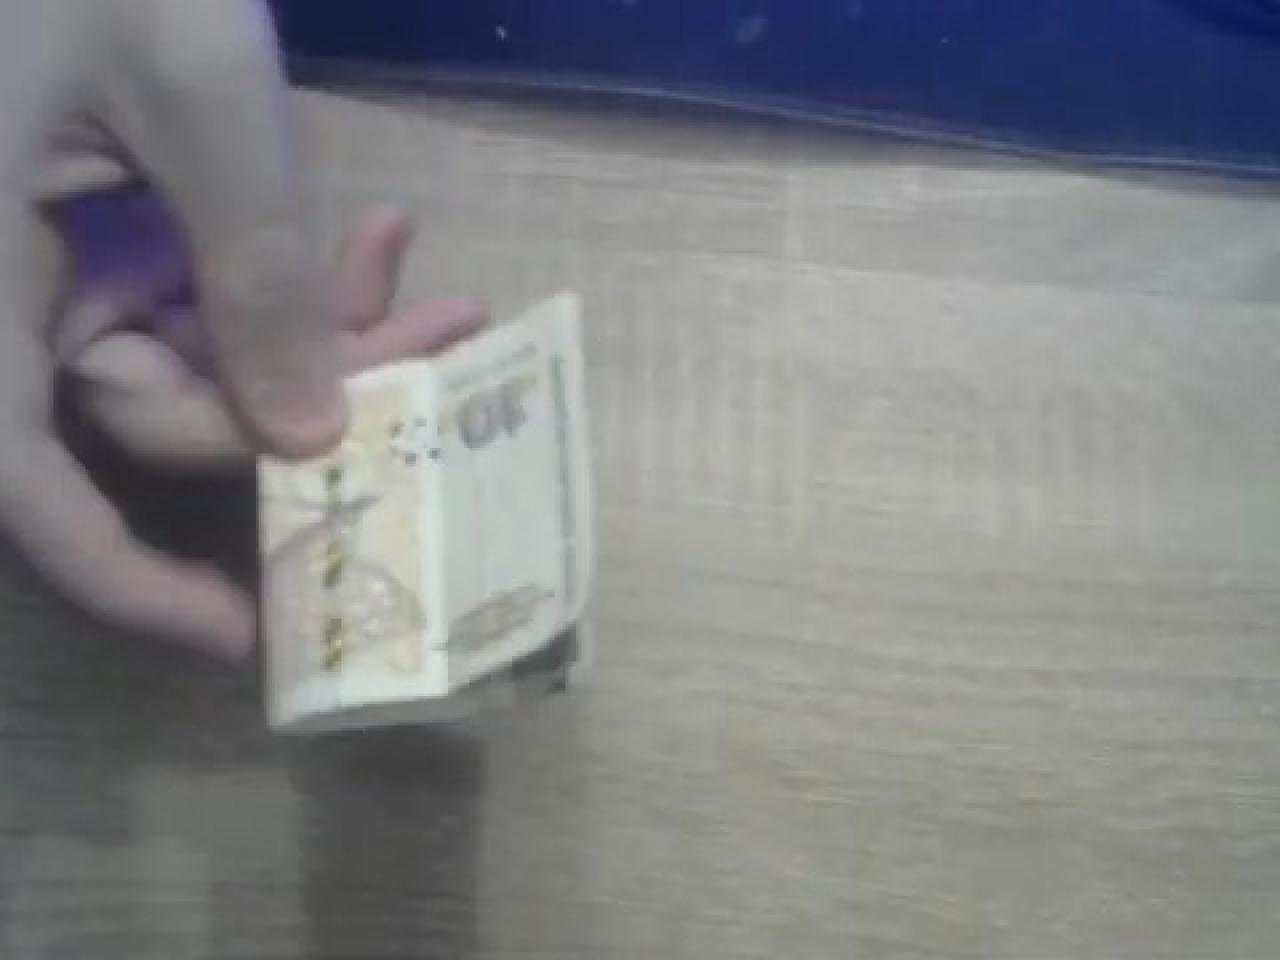10leva: (251, 285, 597, 739)
